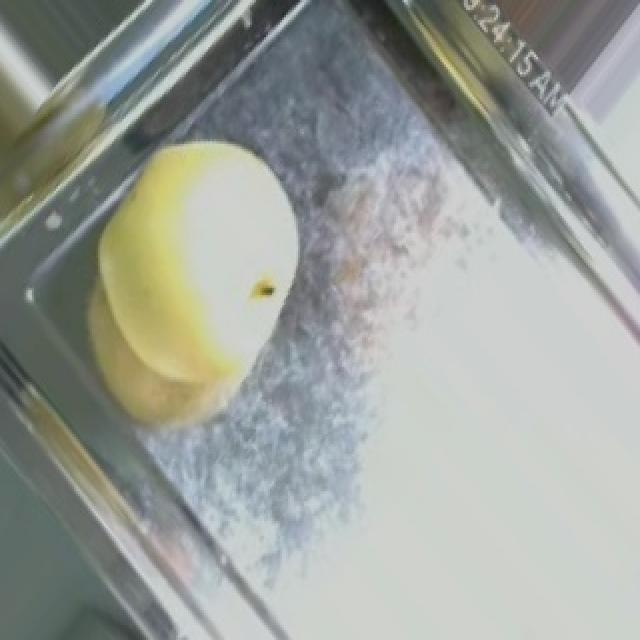Fruit: (50, 159, 278, 461)
